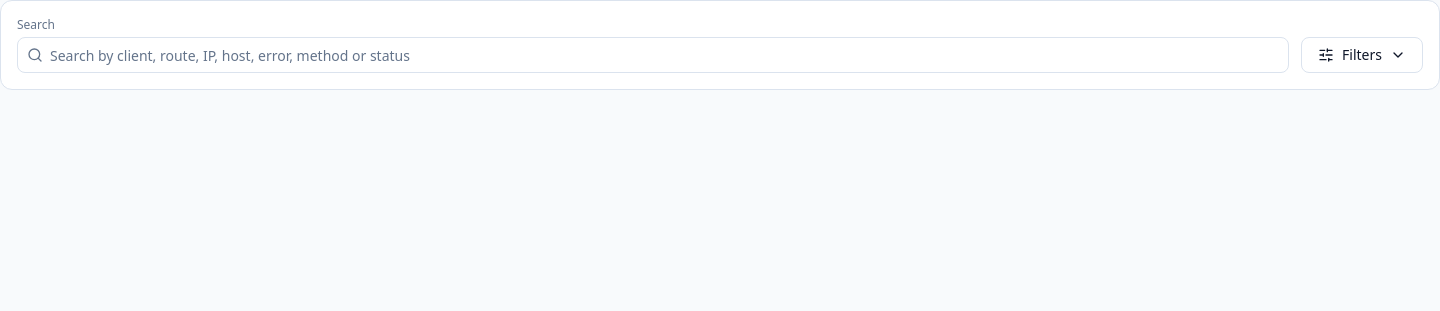
Test: RequestLogFilters › disables "Clear filters" when every filter, including sort, is at its default
Click the button "Filters".
click(1362, 55)  # box [1301,37,1423,73]
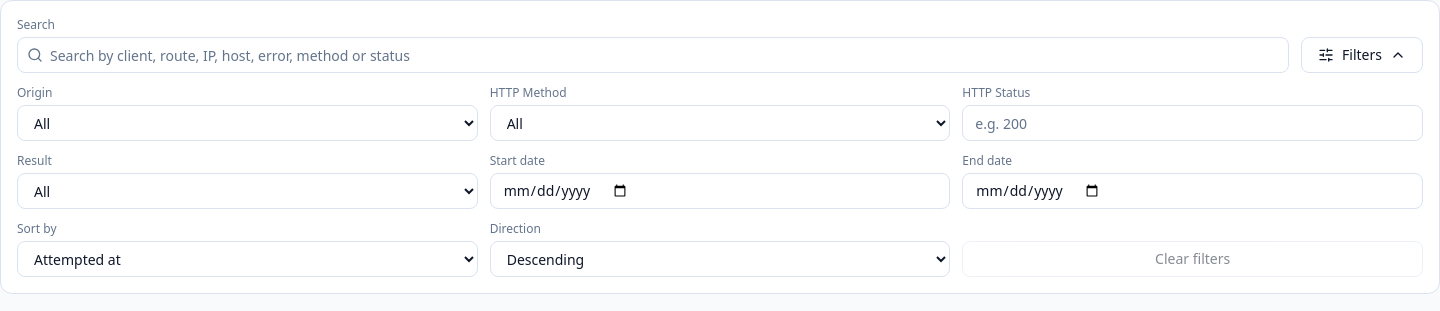
Check: the button "Clear filters" is disabled, box [962,241,1423,277]
